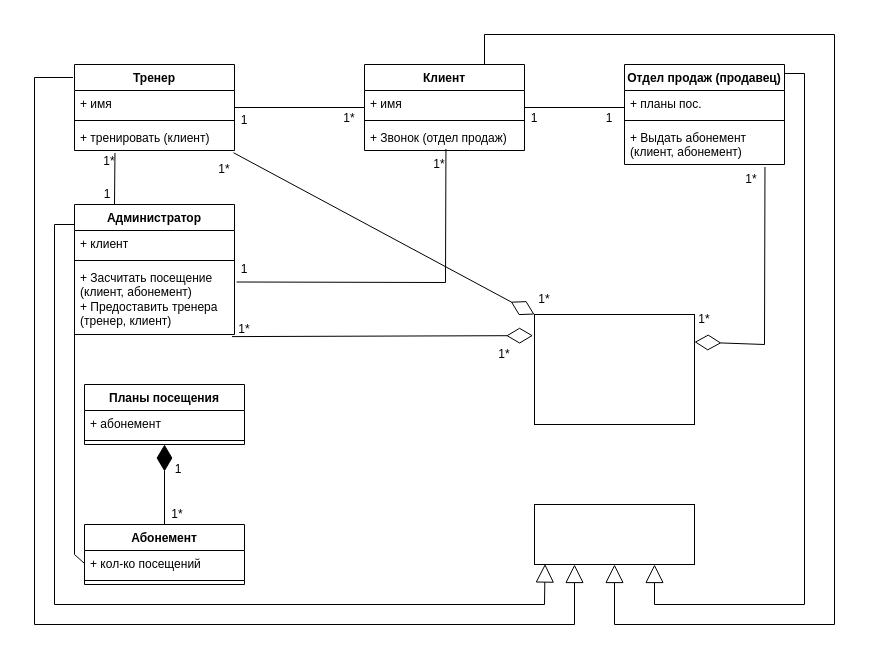
This 870x660 diagram has some shape labels left out. The shapes that lost their labels are listed below. From the top down, each one's centre as x and y in pixels, then its label:
point (614, 369): Кампания + тренер + отдел продаж + администратор + method(): Type
point (614, 534): Человек + Имя
